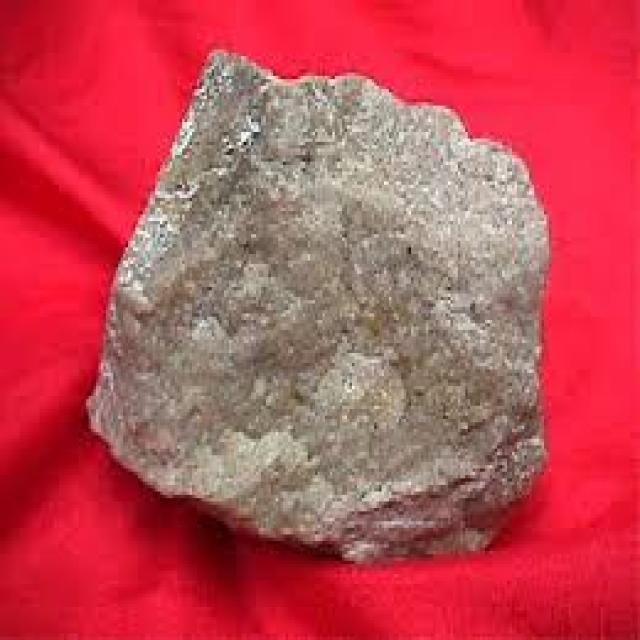Metamorphic: (101, 37, 556, 554)
